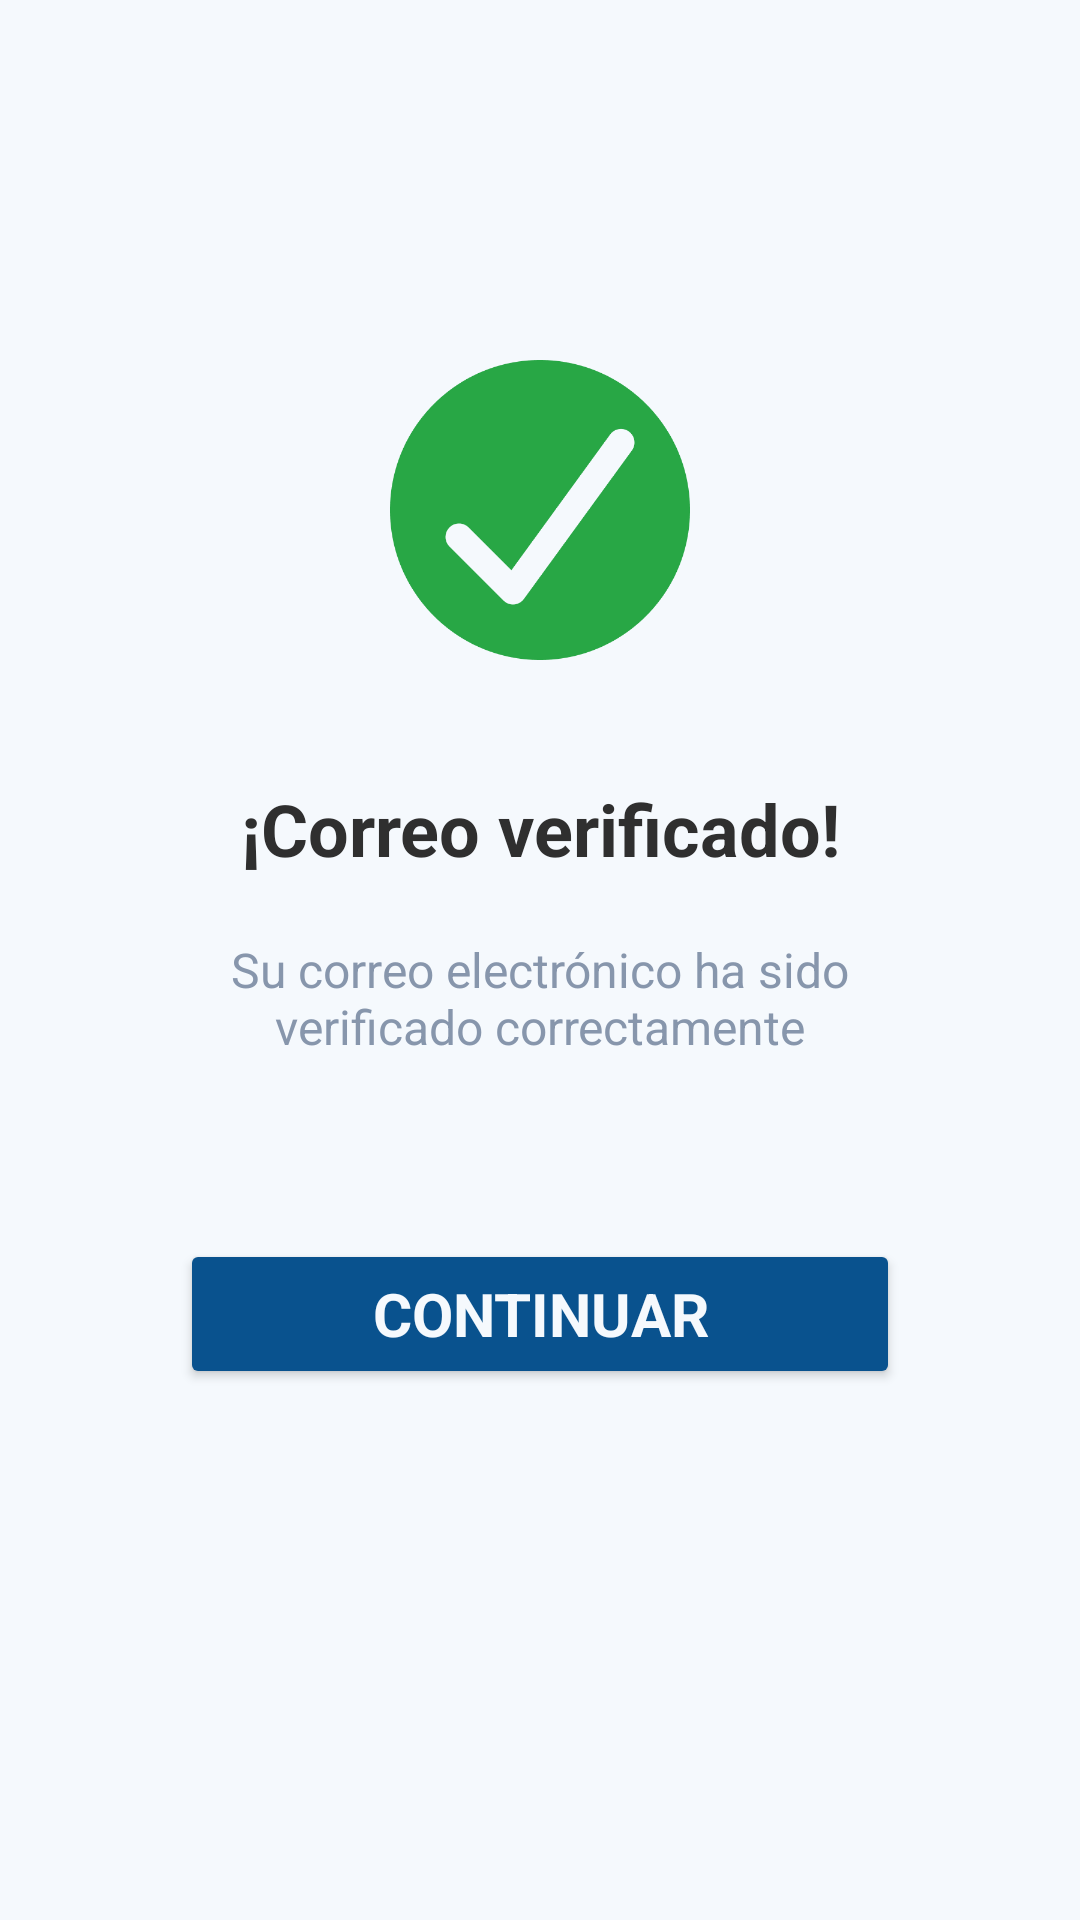

Where to tap for icons on this 1080×1920 app screen, as [x,y]:
check exito: [540,510]
